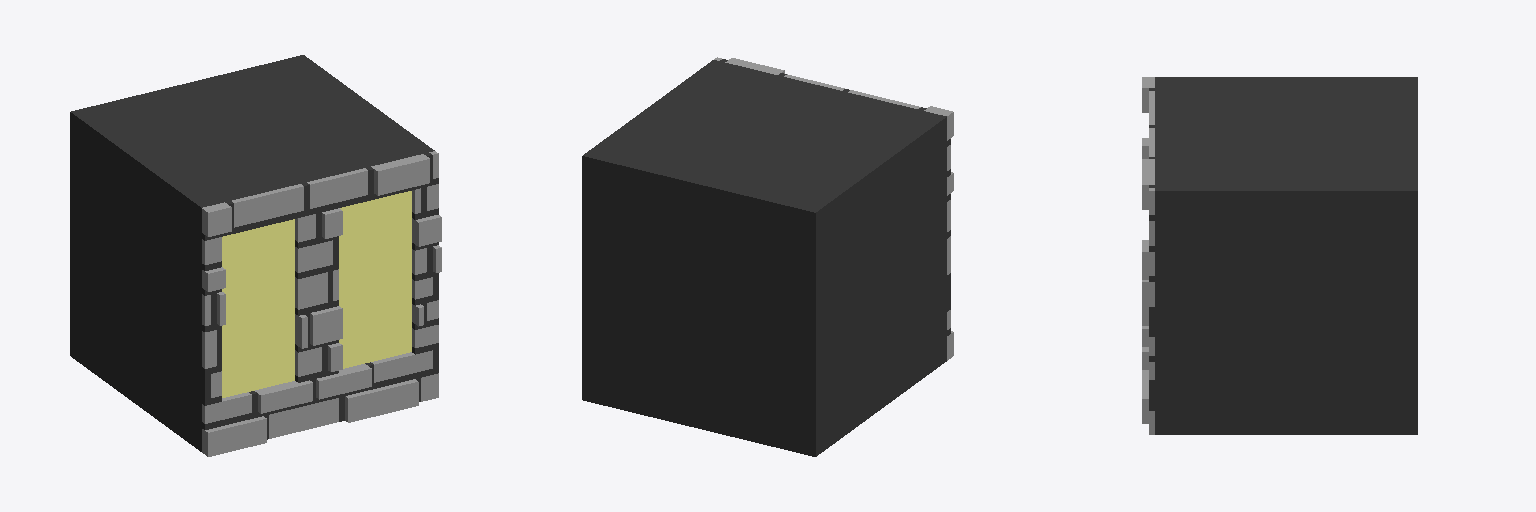
3 renders of one model, left to right at view 1: azimuth 30°, elevation 25°; view 2: azimuth 150°, elevation 25°; view 3: azimuth 270°, elevation 25°, orthographic.
Bounding box in the file's own units: 40 × 40 × 41.
Materials: 1 (1 with a texture image).